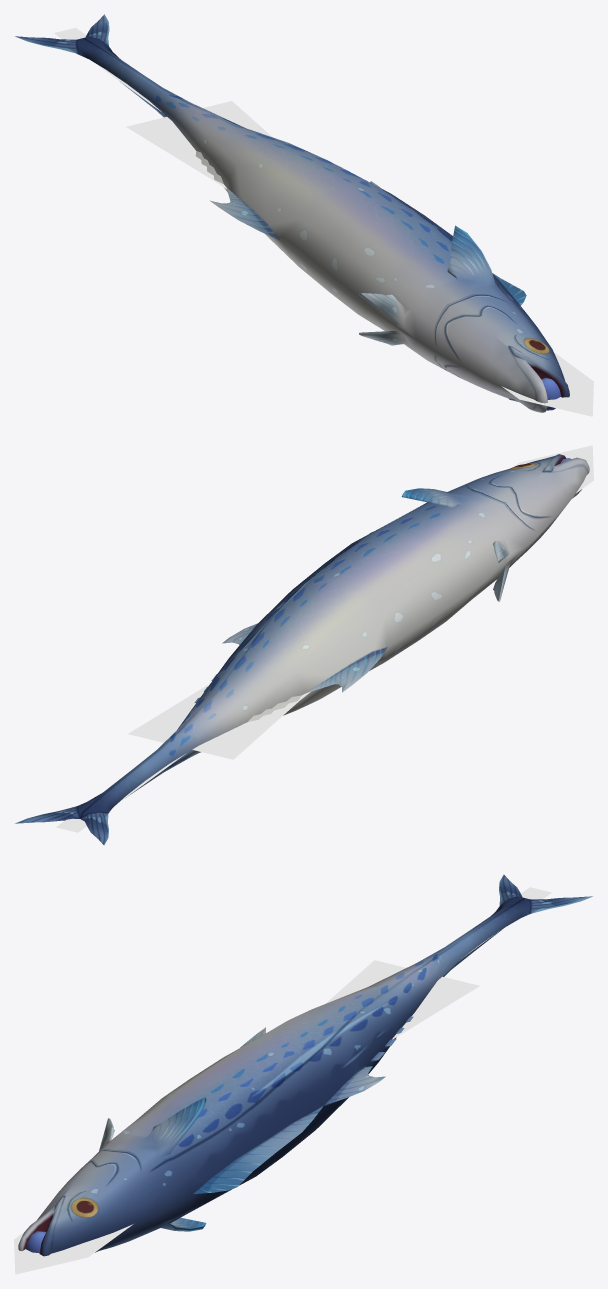
File: Equip_Claymore_MillenniaTuna.fbx
3 renders of one model, top to bottom at view 1: azimuth 30°, elevation 25°; view 2: azimuth 150°, elevation 25°; view 3: azimuth 330°, elevation 25°, orthographic.
Parts seen in each view (by area): view 1: Equip_Claymore_MillenniaTuna_Model, Equip_Claymorei_Effect; view 2: Equip_Claymore_MillenniaTuna_Model, Equip_Claymorei_Effect; view 3: Equip_Claymore_MillenniaTuna_Model, Equip_Claymorei_Effect.
Boxes of the visible parts, x1,y1,x2,y2 form: Equip_Claymore_MillenniaTuna_Model: (15, 14, 569, 412); Equip_Claymorei_Effect: (54, 27, 593, 416); Equip_Claymore_MillenniaTuna_Model: (15, 454, 589, 845); Equip_Claymorei_Effect: (56, 445, 593, 832); Equip_Claymore_MillenniaTuna_Model: (18, 874, 592, 1256); Equip_Claymorei_Effect: (14, 887, 551, 1274).
Bounding box in the file's own units: 0.2646 × 0.2217 × 1.66.
Materials: 2 (1 with a texture image).
